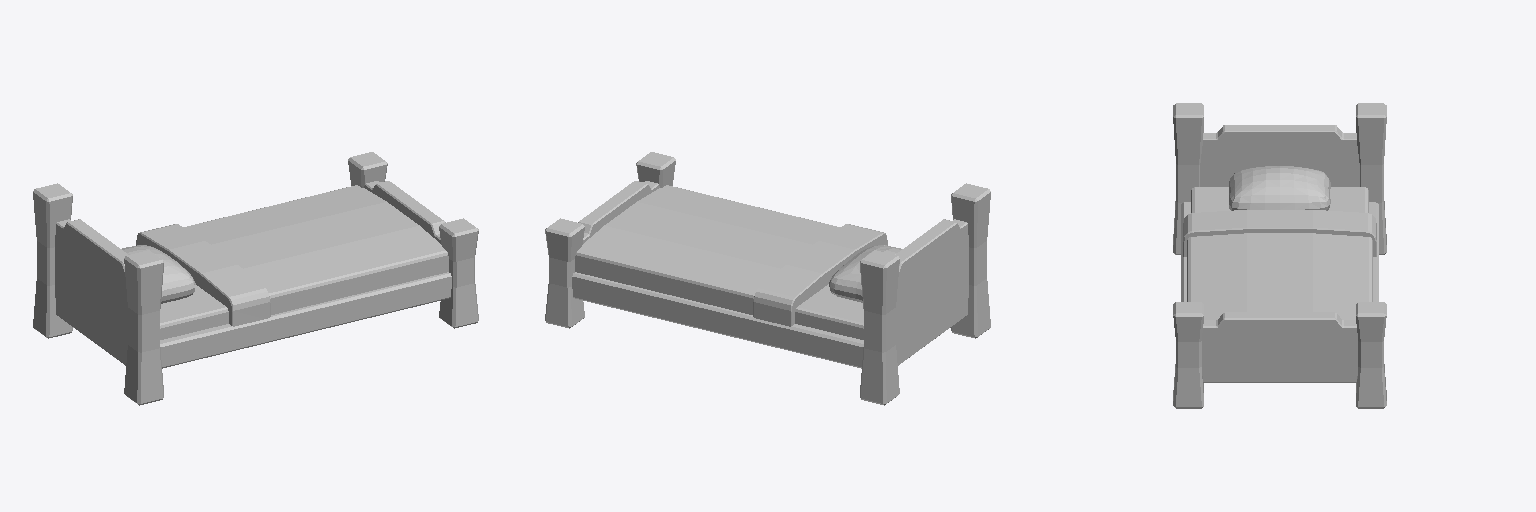
File: cama_doble.obj
3 views of the same model, side by side, from view 1: azimuth 30°, elevation 25°; view 2: azimuth 150°, elevation 25°; view 3: azimuth 270°, elevation 25° (orthographic).
Visible parts, largest first — view 1: Bed; view 2: Bed; view 3: Bed.
Boxes of the visible parts, box(x1,y1,x2,y2) form: Bed: box(33, 152, 478, 405); Bed: box(545, 152, 990, 405); Bed: box(1173, 103, 1386, 408).
Bounding box in the file's own units: 2.22 × 0.87 × 1.2.